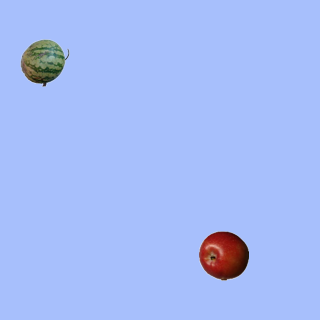Apple Braeburn: (198, 230, 248, 280)
Watermelon: (19, 37, 69, 87)
